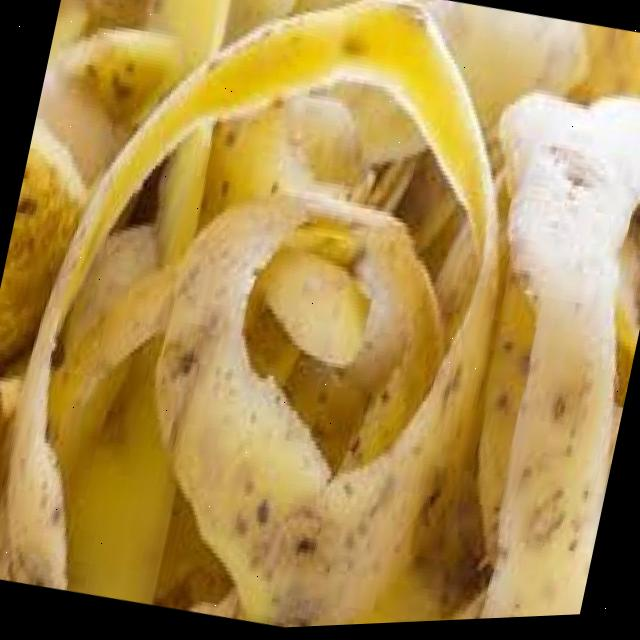Wet: (0, 0, 640, 640), (389, 16, 640, 626)
